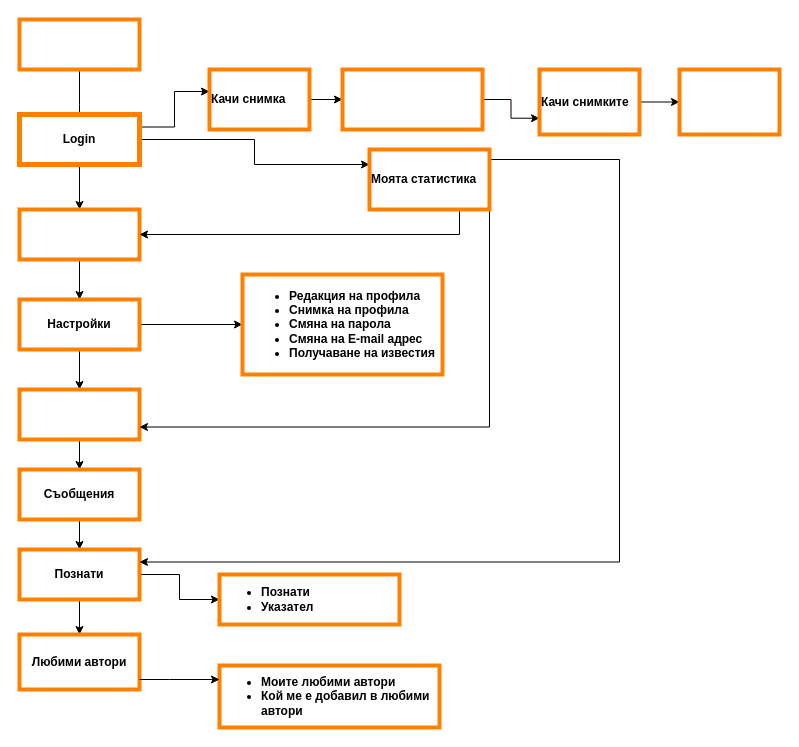
The diagram is 799 pixels wide and 747 high, and some of its shapes have lost their labels. The shapes that lost their labels are listed below. From the top down, each one's centre as x and y in pixels, then its label:
point (79, 44): Customer
point (412, 99): Нов албум Съществуващ албум
point (729, 101): Разкажи за тях
point (79, 234): Албуми
point (79, 414): Любими албуми
